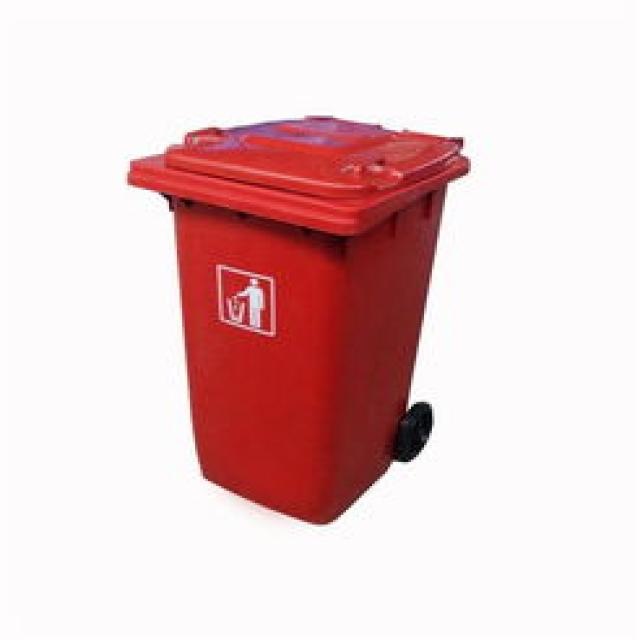garbage_bin: (122, 113, 468, 525)
